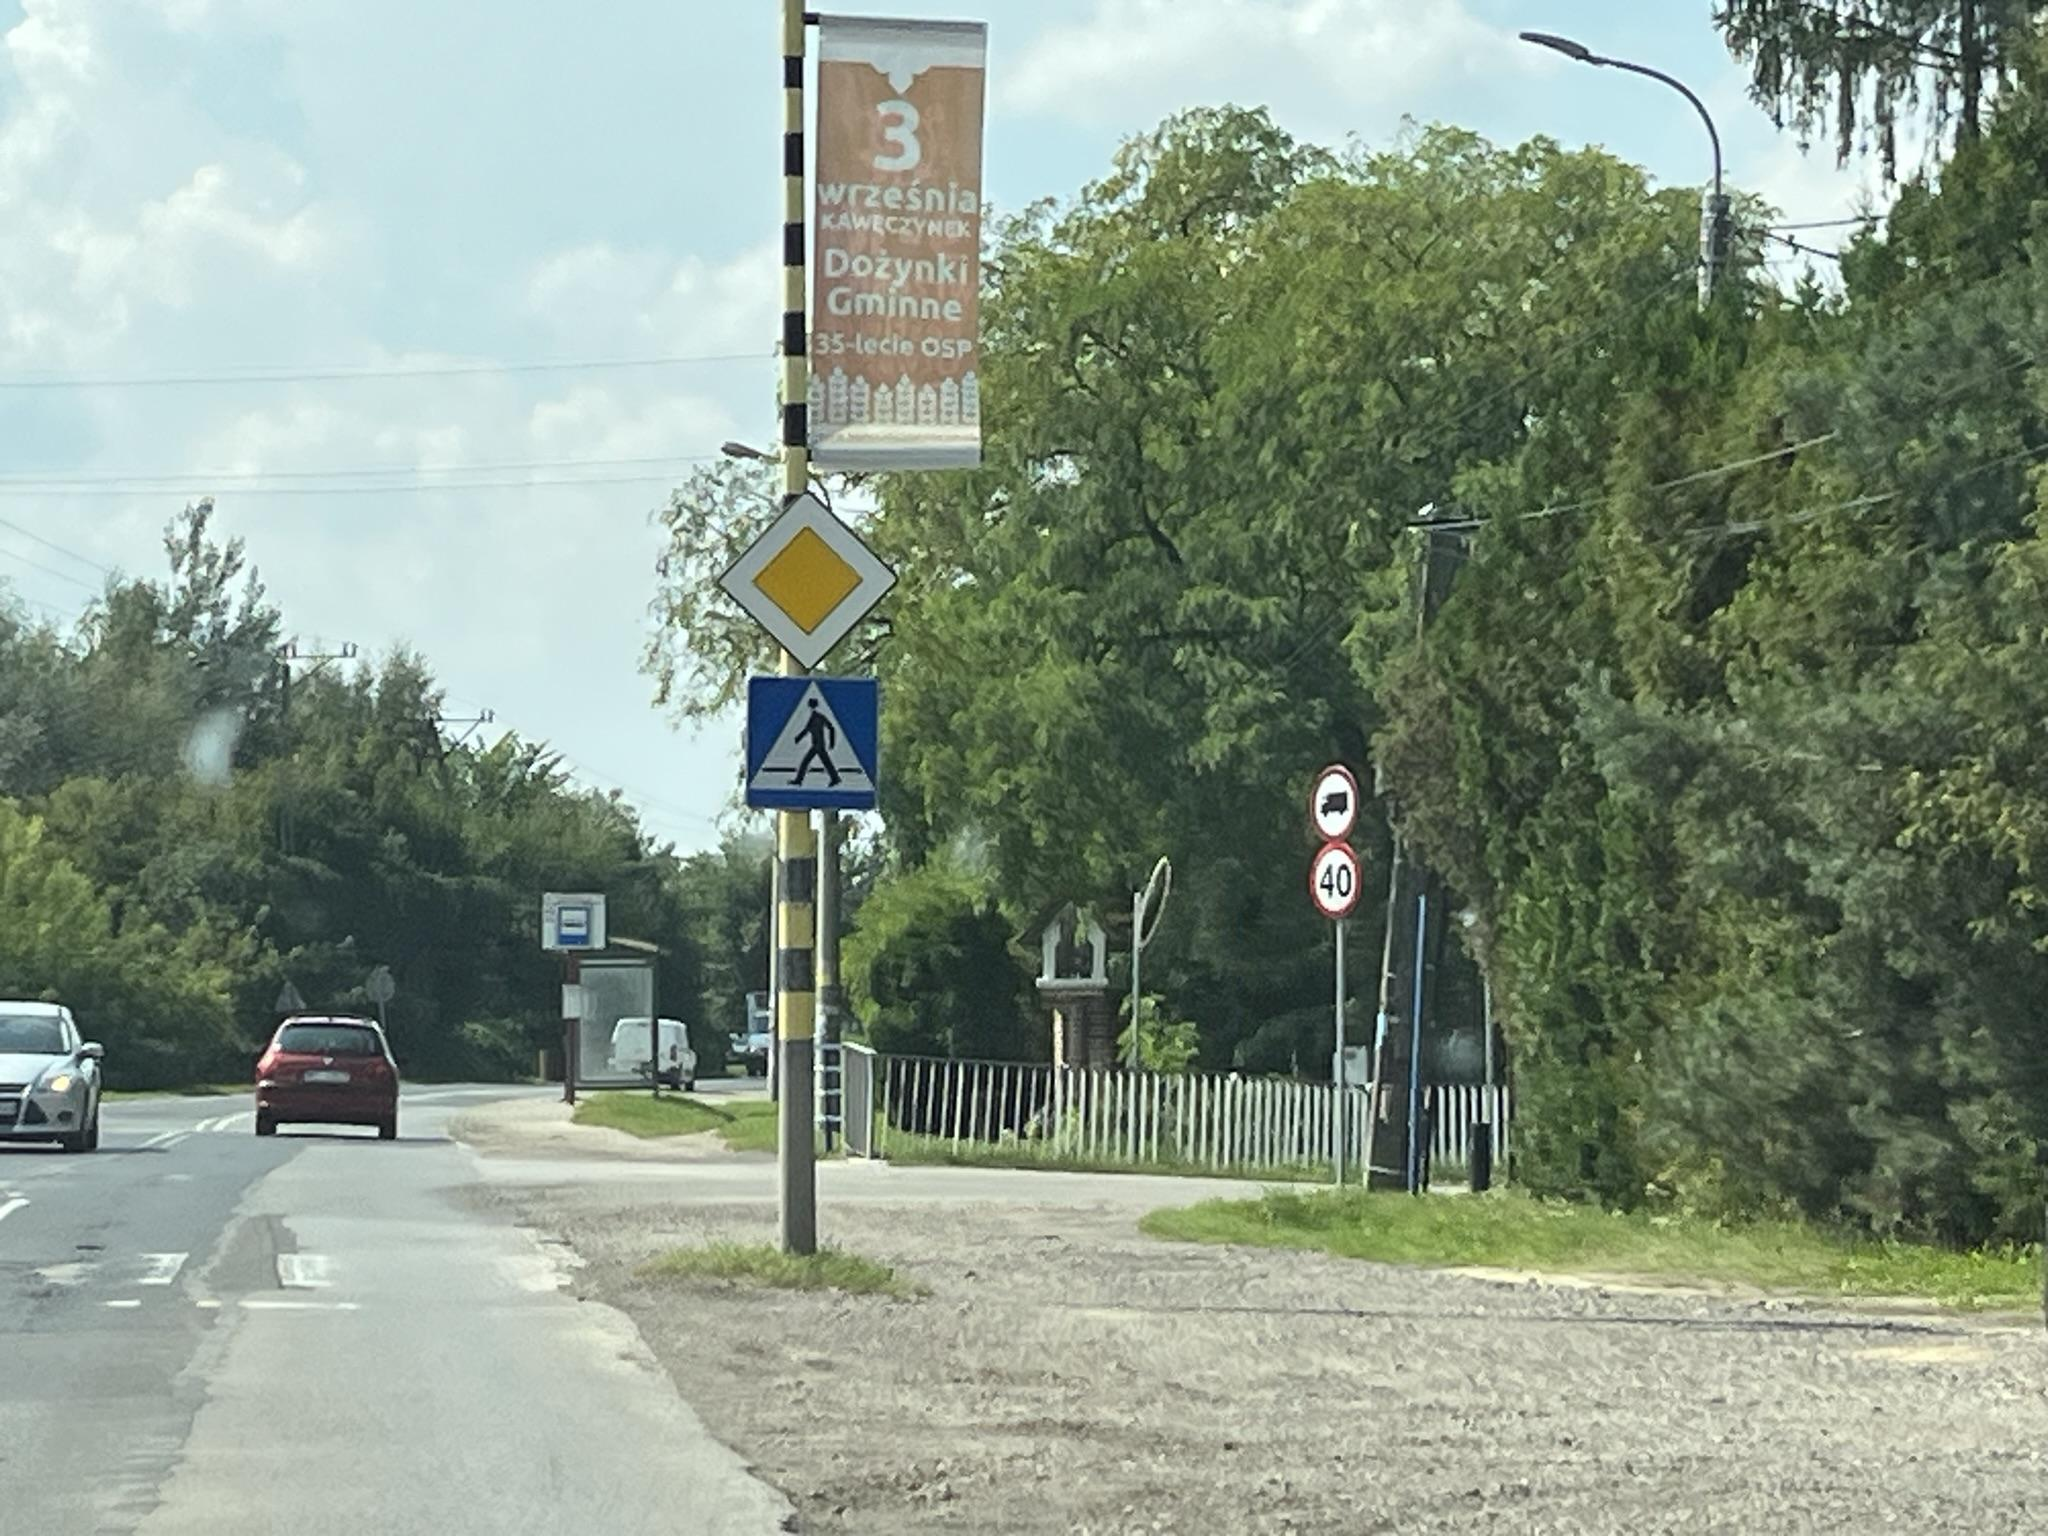information: (714, 487, 900, 673), (750, 679, 879, 808), (558, 907, 587, 945)
prohibitory: (1308, 841, 1363, 920), (1309, 765, 1359, 841)
